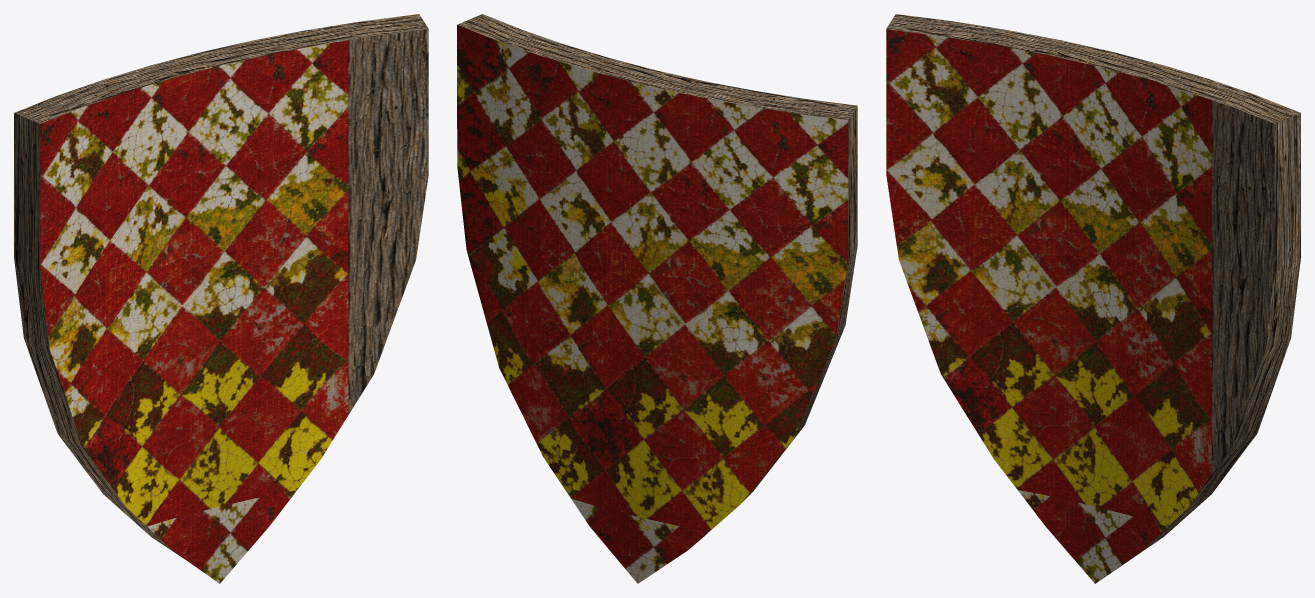
The model's file is mm9_deco_shield2.glb.
The picture shows the model from 3 angles, left to right: view 1: azimuth 30°, elevation 25°; view 2: azimuth 150°, elevation 25°; view 3: azimuth 330°, elevation 25°; orthographic projection. The views are drawn at different scales.
Parts seen in each view (by area): view 1: Shield2; view 2: Shield2; view 3: Shield2.
Part boxes in pixels (x1,y1,x2,y2): Shield2: (14,14,428,583); Shield2: (457,14,857,583); Shield2: (886,14,1300,583).
Bounding box in the file's own units: 0.9023 × 1.1 × 0.1288.
Materials: 1 (1 with a texture image).
